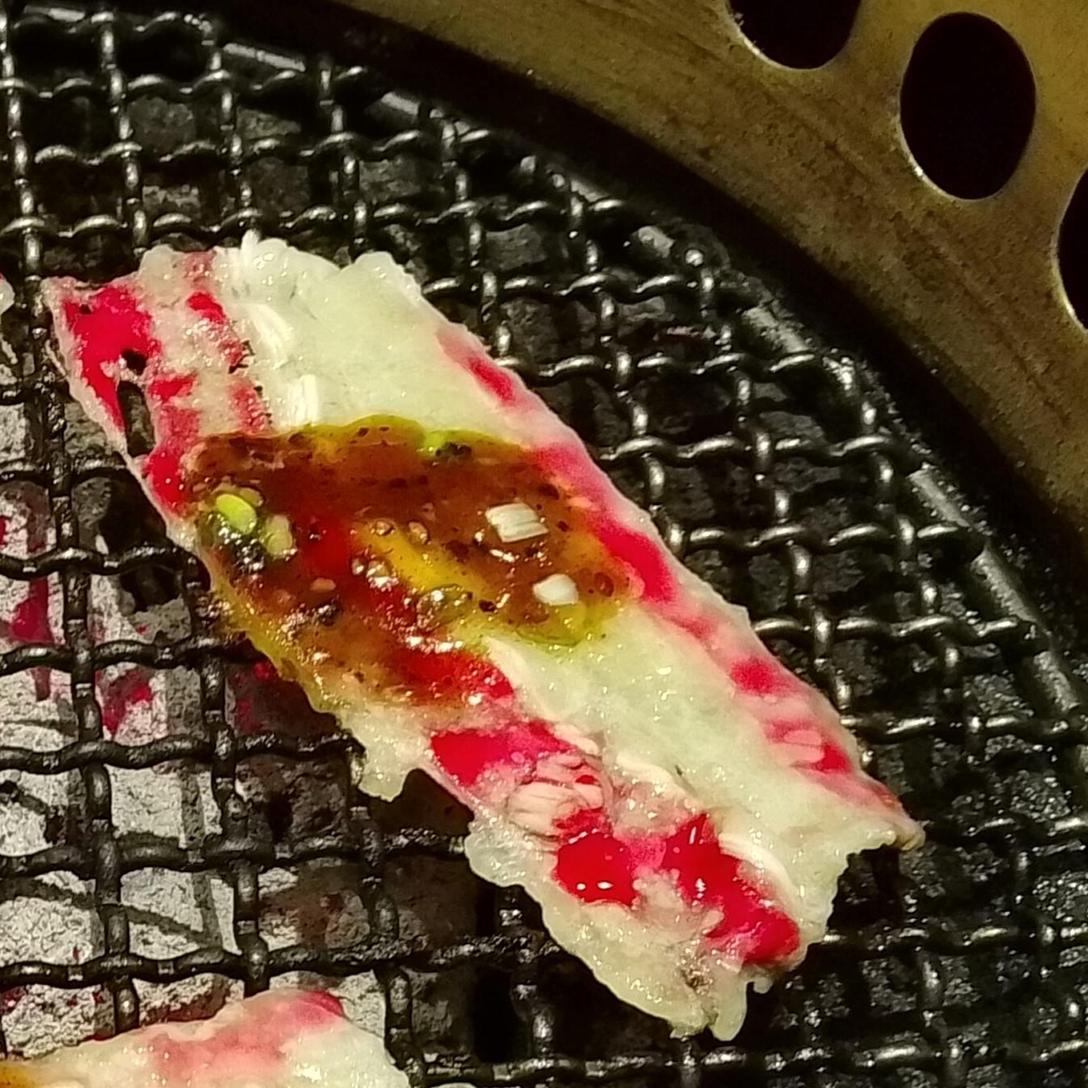Undercooked: (43, 237, 922, 1039), (0, 988, 409, 1087)
